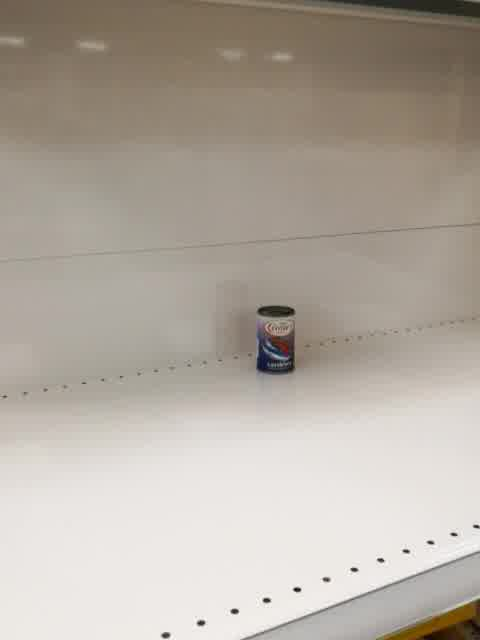sardine: (255, 306, 297, 375)
